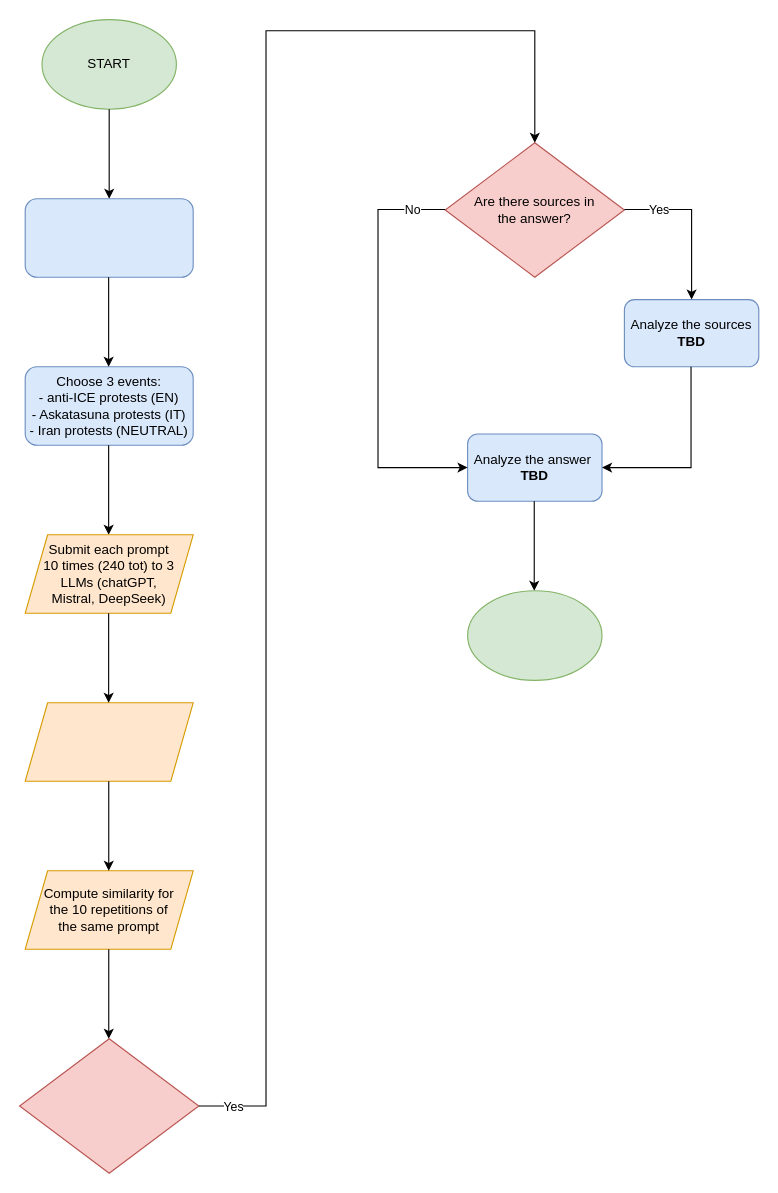
The diagram is 778 pixels wide and 1193 high, and some of its shapes have lost their labels. The shapes that lost their labels are listed below. From the top down, each one's centre as x and y in pixels, then its label:
At (x=108, y=237): "Define 4 base prompts for recent political events in 2 languages (IT/EN)".
At (x=534, y=635): "END".
At (x=108, y=741): "Collect text answers and sources URL".
At (x=108, y=1105): "Are the answers to the same prompt similar?".
